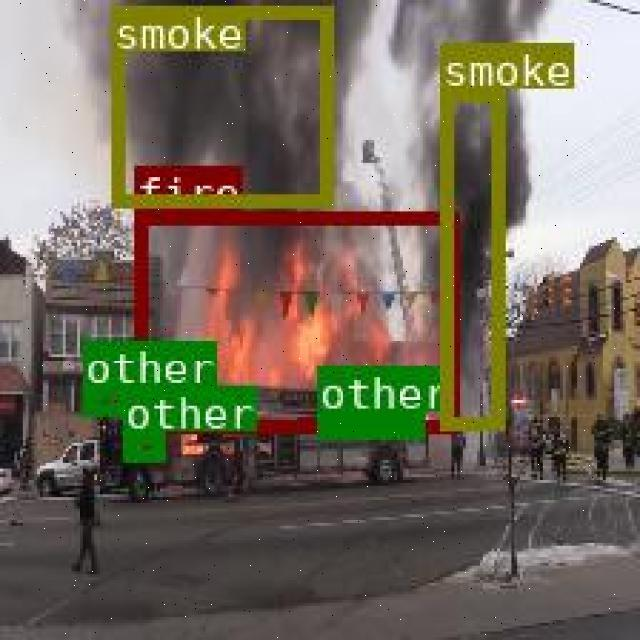fire: (134, 210, 457, 432)
smoke: (109, 4, 331, 204), (438, 88, 500, 428)
